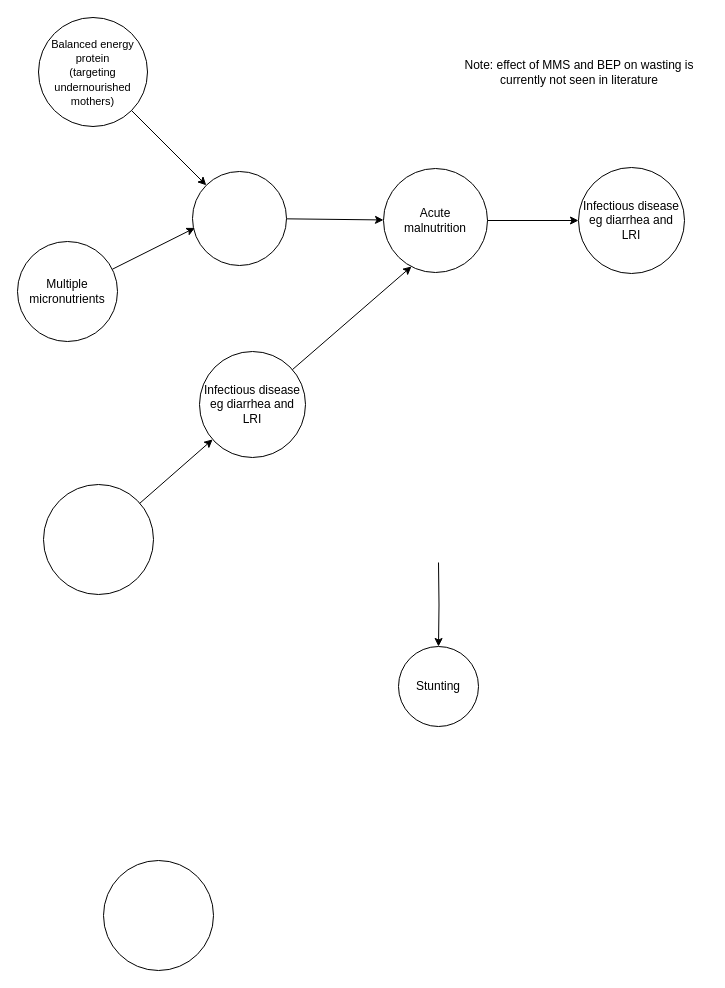
The diagram is 725 pixels wide and 988 high, and some of its shapes have lost their labels. Each missing label, with the box of its shape:
Birthweight: (192, 170, 286, 266)
Nutrition-specific prevention interventions: (102, 860, 214, 970)
Wasting risk factor prevention: (42, 484, 154, 594)
